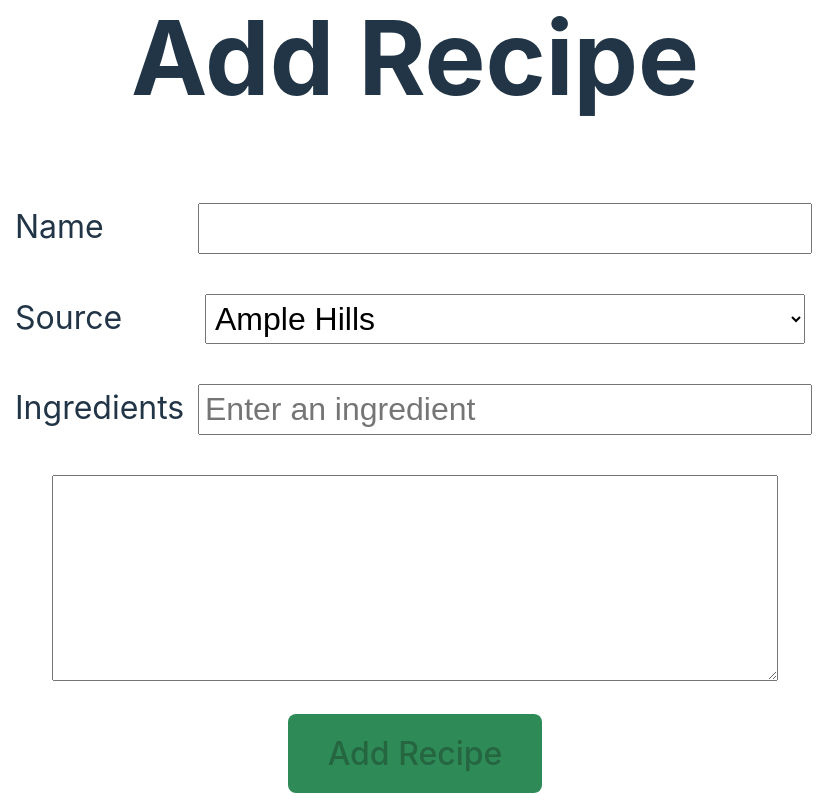
Add Recipe page › enables the submit button when I add a name and a valid ingredient and type enter
The width and height of the screenshot is (829, 801).
Type "Vanilla" into the field labelled "Name" at (505, 228), box [198, 203, 812, 254]
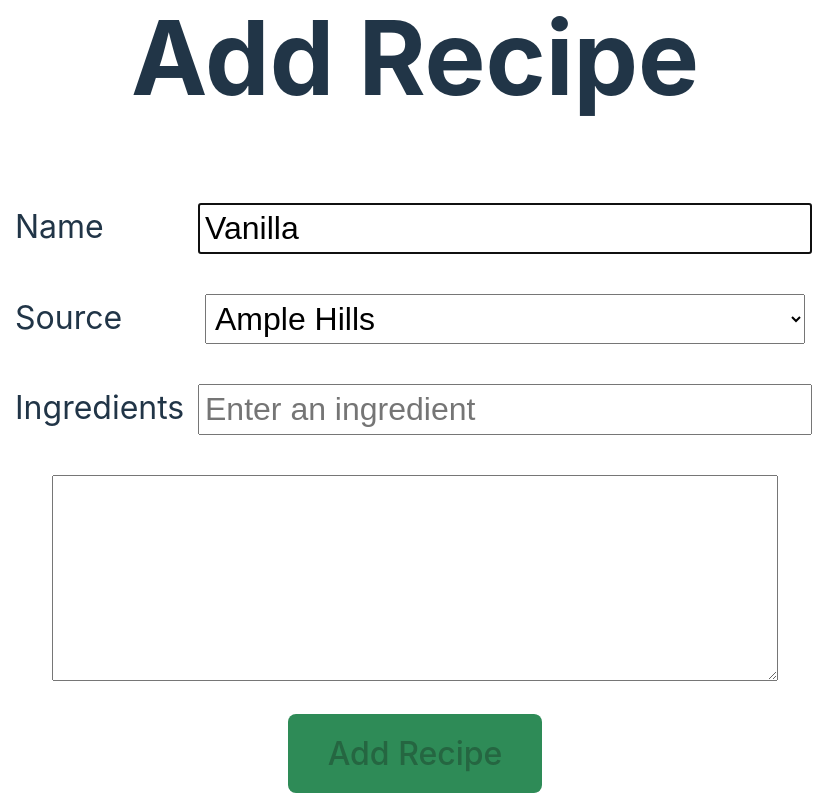
Type "1c Milk" into the field labelled "Ingredients" at (505, 409), box [198, 384, 812, 435]
Then press Enter
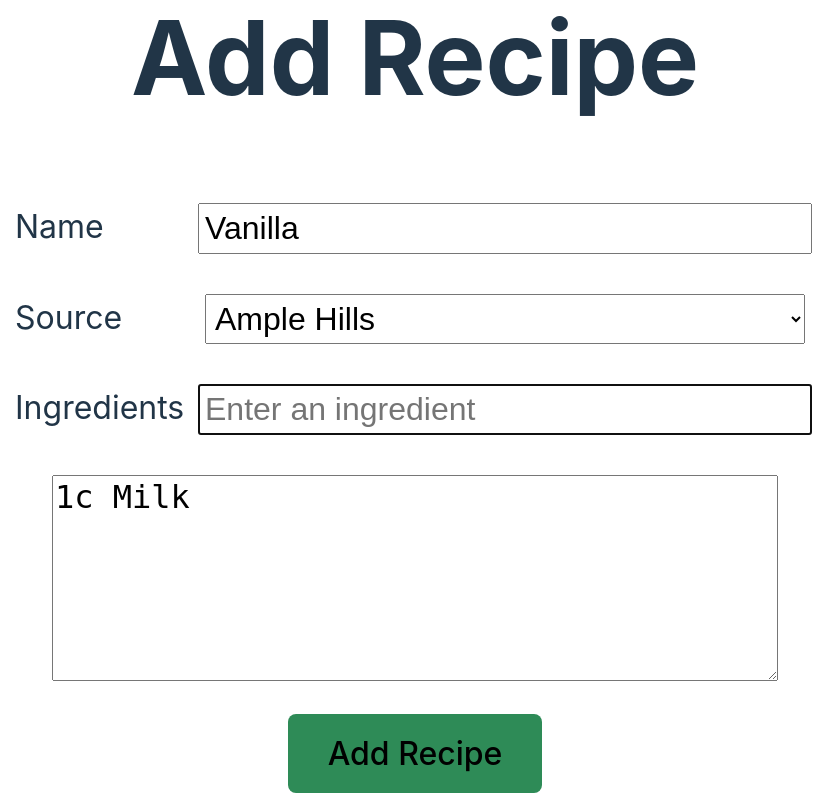
Now the button "Add Recipe" is enabled, box [288, 714, 542, 793]
